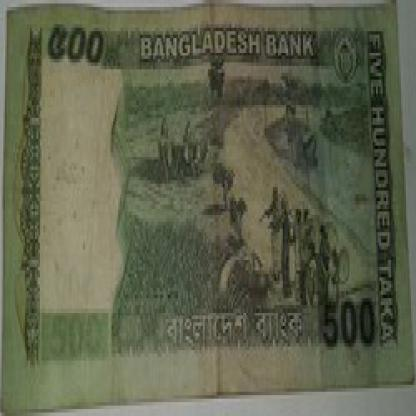500 taka: (36, 24, 122, 83)
currency: (1, 7, 408, 367)
